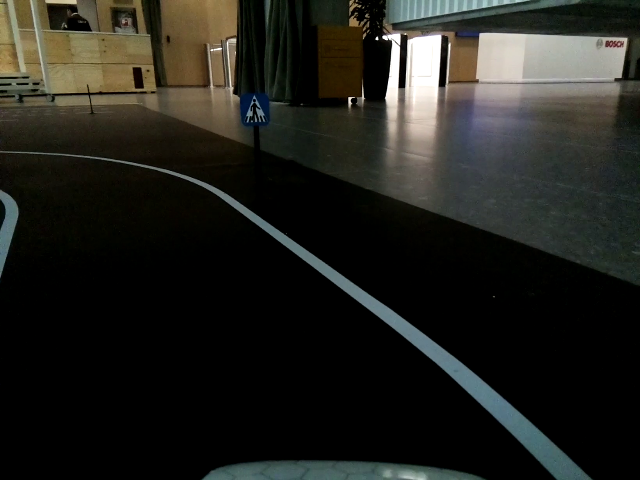pedestrians: (239, 96, 271, 126)
